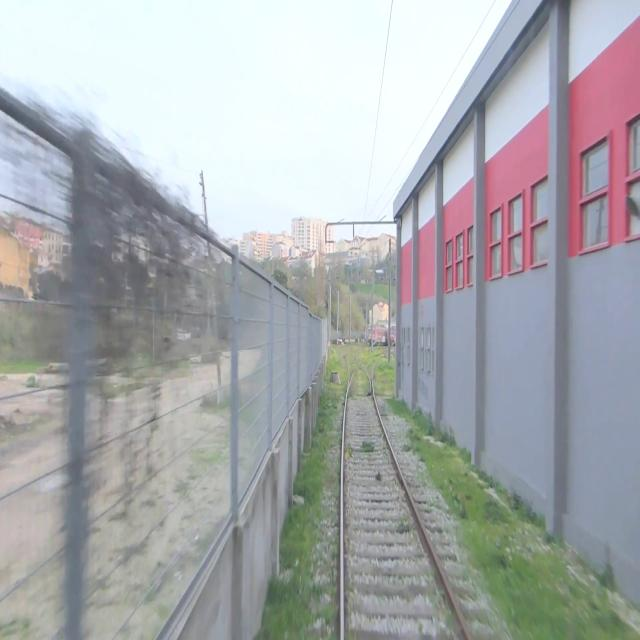rail-track: (344, 367, 466, 639), (345, 351, 356, 372), (363, 358, 375, 373)
